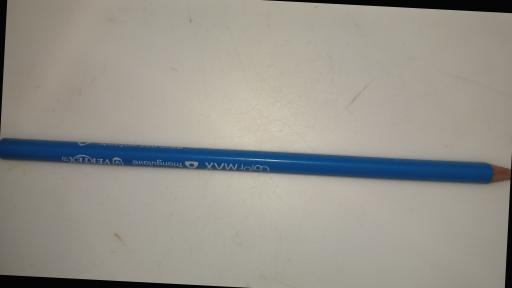Pencil: (0, 138, 511, 186)
